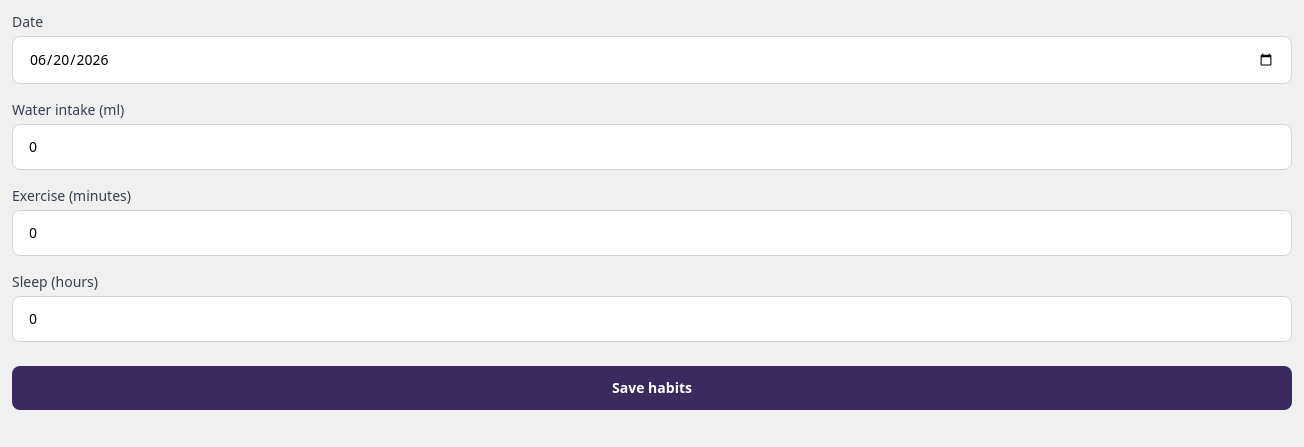
it: HabitForm › shows validation error when water intake is negative
The image size is (1304, 447).
Replace the text in the number field labelled "Water intake (ml)" with "-1" at [652, 147], box [12,124,1292,170]
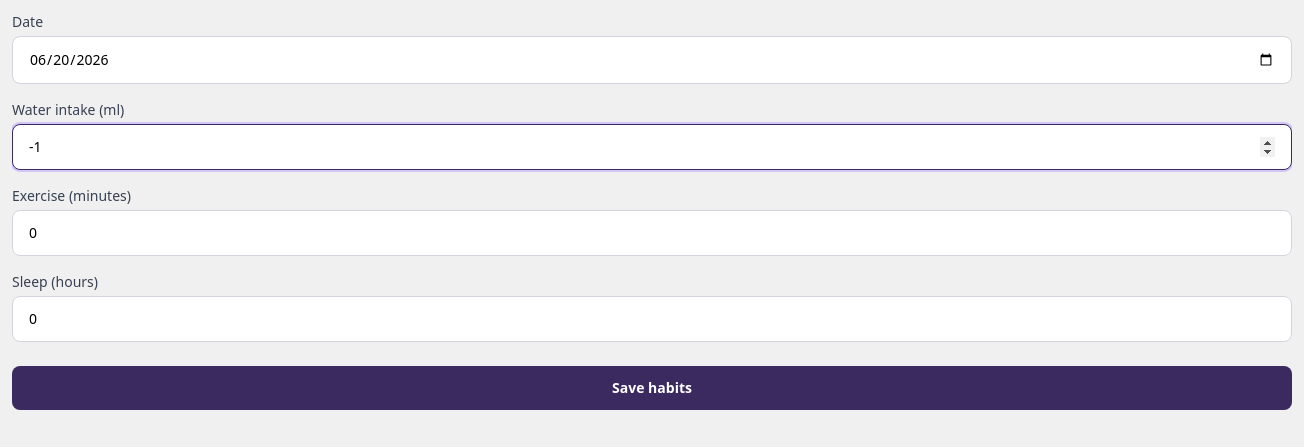
Click the button "Save habits" at [652, 388], box [12,366,1292,410]
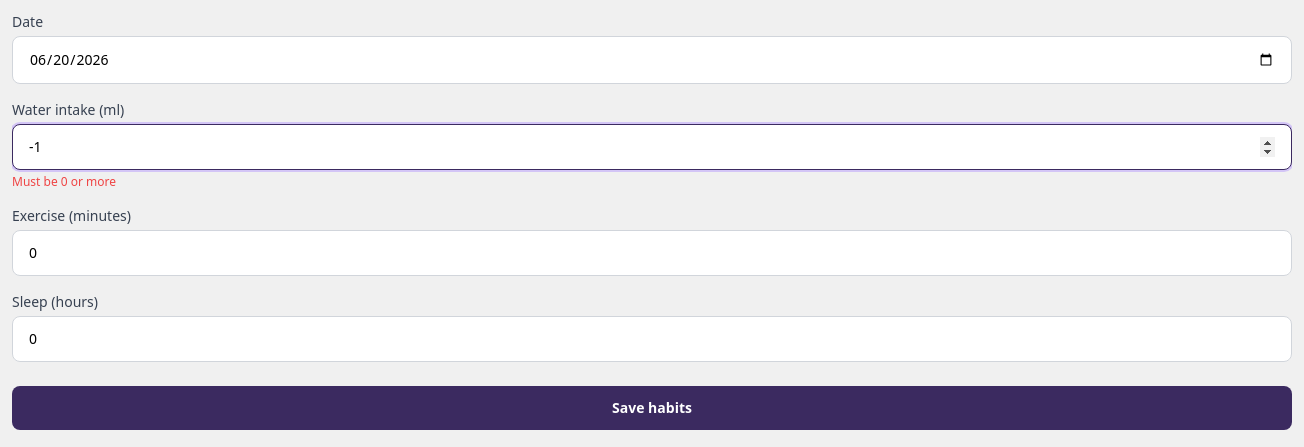
Check: the text "Must be 0 or more" is shown, box [12,173,116,190]
